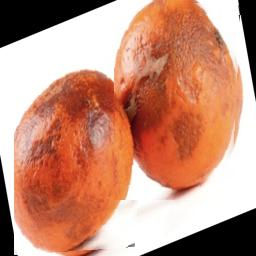Orange Rotten: (14, 44, 149, 256), (114, 0, 241, 200)
